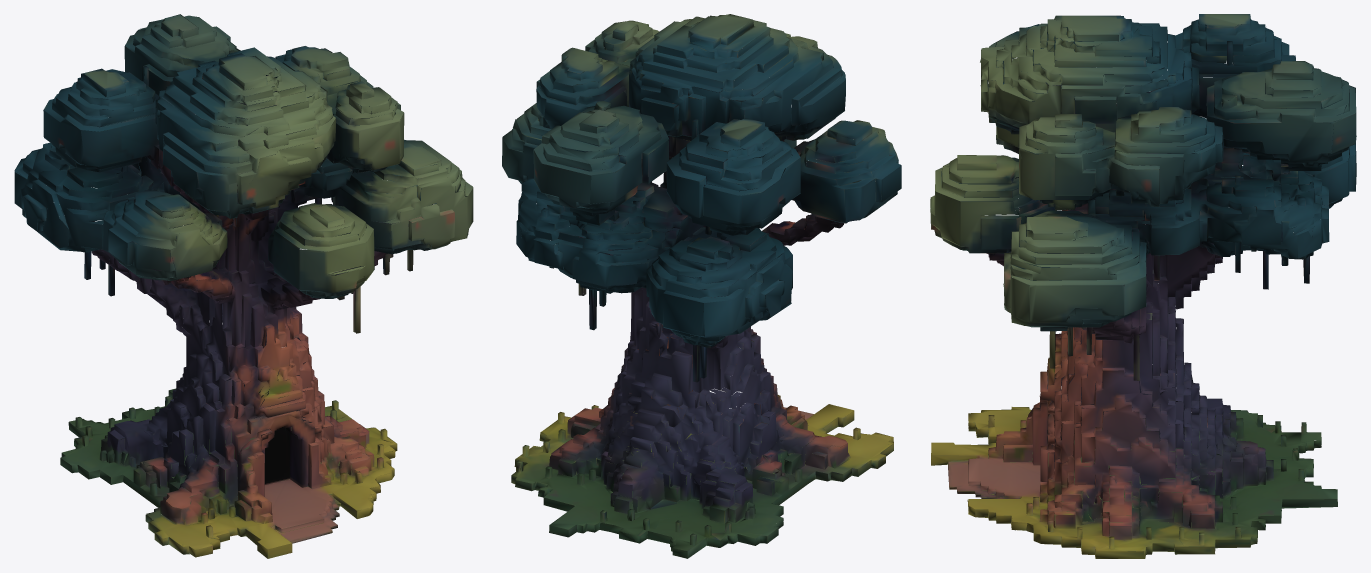
Rendered from ancient_tree_darkgreen_3.glb.
The picture shows the model from 3 angles, left to right: view 1: azimuth 30°, elevation 25°; view 2: azimuth 150°, elevation 25°; view 3: azimuth 270°, elevation 25°; orthographic projection. The views are drawn at different scales.
Parts seen in each view (by area): view 1: node_0; view 2: node_0; view 3: node_0.
Part boxes in pixels (box(x1,y1,x2,y2)): node_0: box(14, 14, 473, 558); node_0: box(502, 14, 901, 558); node_0: box(930, 14, 1356, 558).
Size of the model in its own units: 0.7451 by 0.8715 by 0.7353.
1 material, 1 textured.
